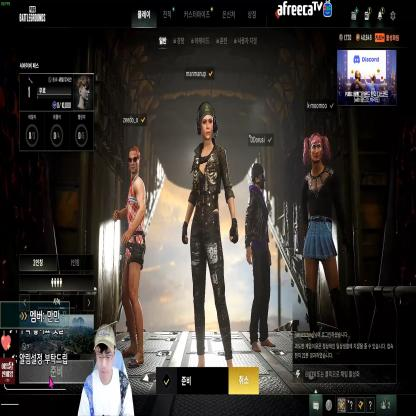streamer: (78, 319, 134, 416)
